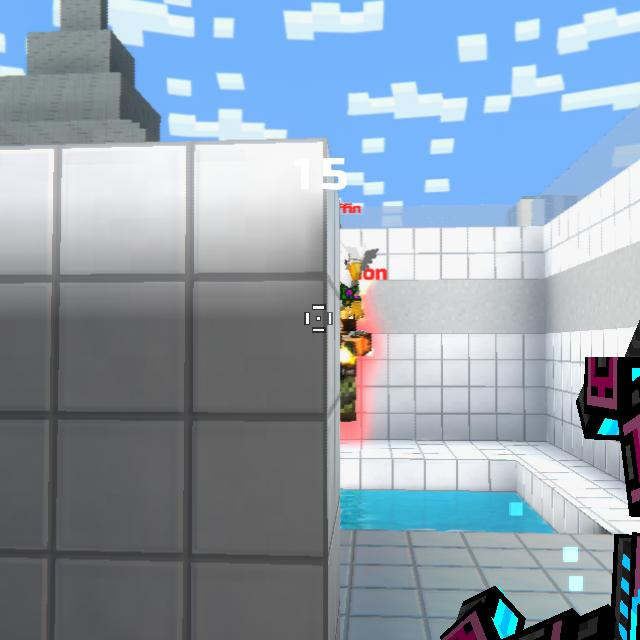Enemy: (339, 291, 373, 422)
